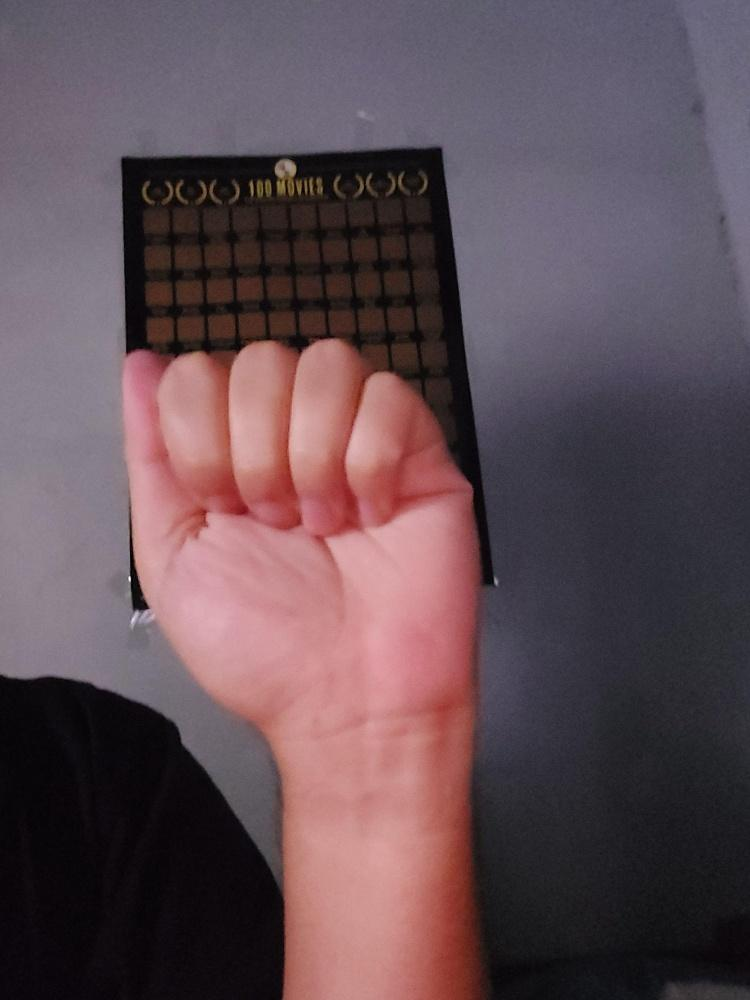a: (114, 335, 483, 706)
